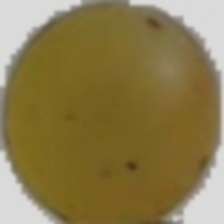grapes: (22, 4, 215, 180)
